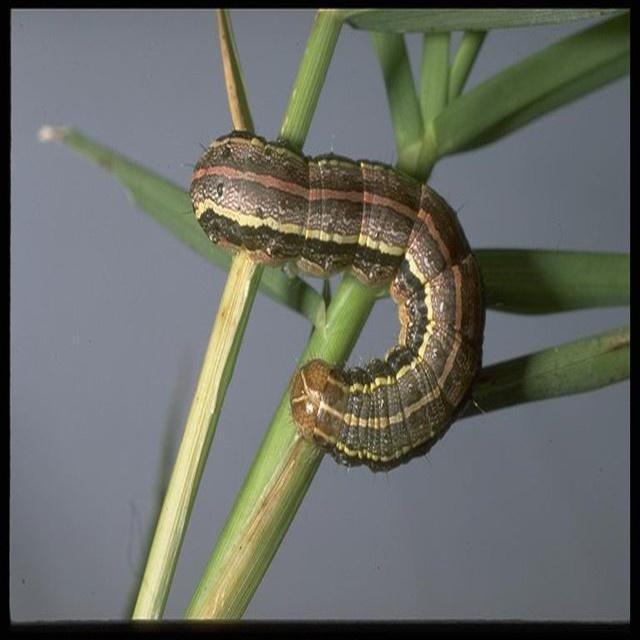gusano_cogollero: (186, 129, 487, 475)
